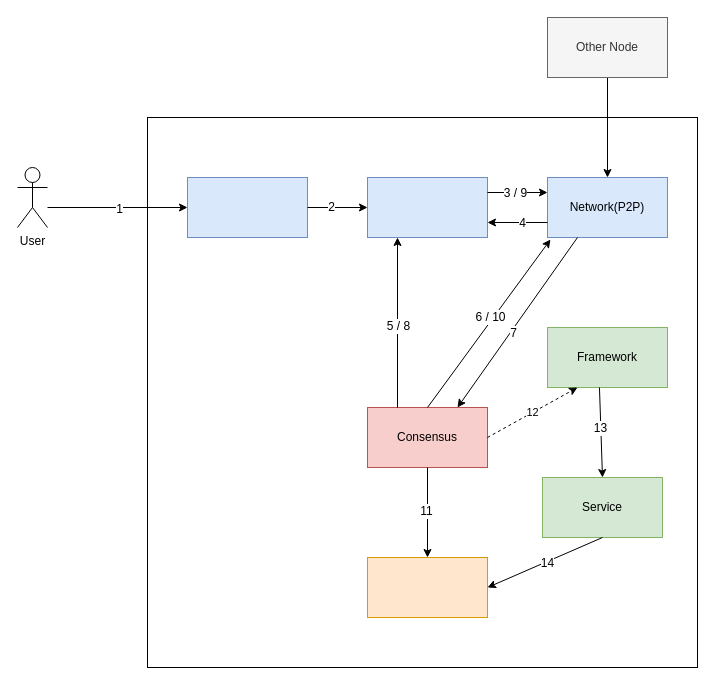
The diagram is 715 pixels wide and 685 high, and some of its shapes have lost their labels. Here are the shapes that lost their labels. From the top down, the box of each, then its label:
(186, 176, 308, 238): GraphQL Server
(366, 176, 488, 238): Mempool
(366, 556, 488, 618): Storage
